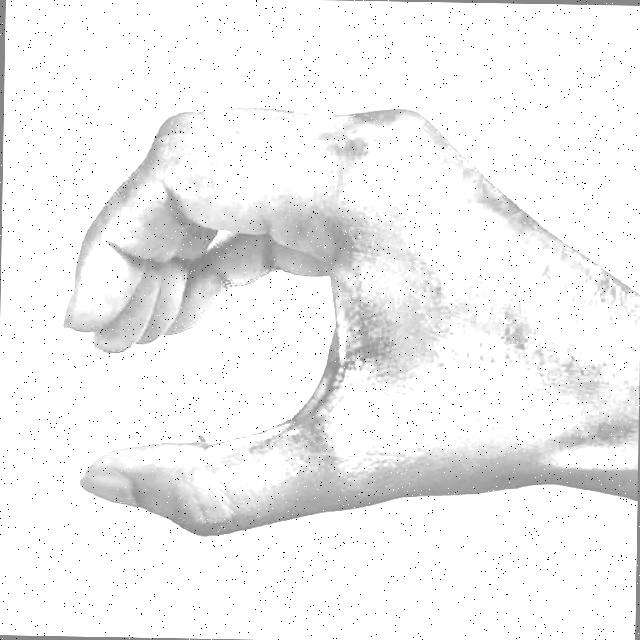Ka: (38, 56, 629, 558)
